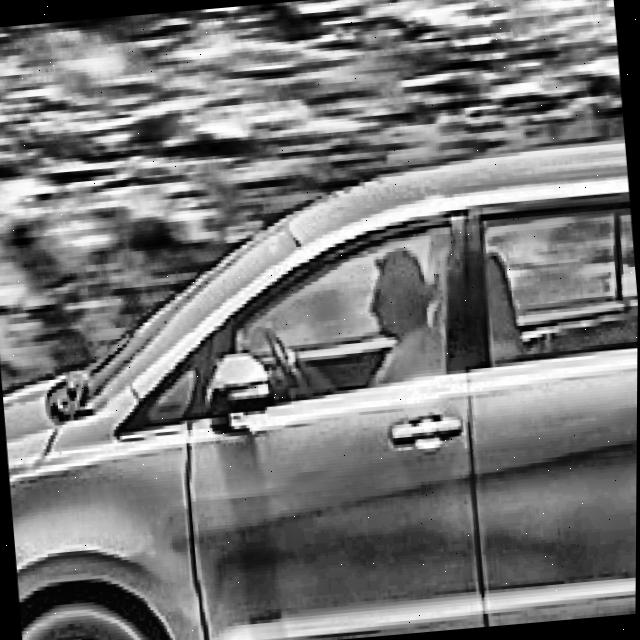light_vehicle: (0, 132, 639, 640)
